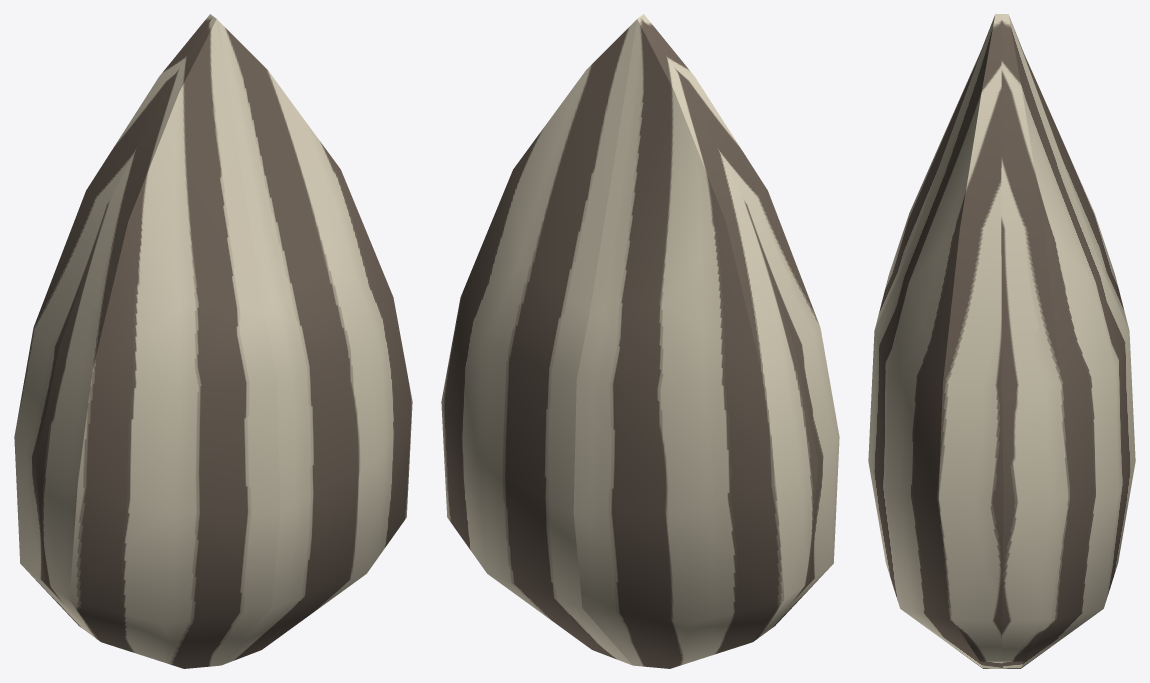
File: SunFlowerSeed.fbx
The picture shows the model from 3 angles, left to right: view 1: azimuth 30°, elevation 25°; view 2: azimuth 150°, elevation 25°; view 3: azimuth 270°, elevation 25°; orthographic projection.
Visible parts, largest first — view 1: himawarinotane; view 2: himawarinotane; view 3: himawarinotane.
Boxes of the visible parts, box(x1,y1,x2,y2) form: himawarinotane: box(14, 14, 412, 668); himawarinotane: box(441, 14, 839, 668); himawarinotane: box(868, 14, 1135, 668).
Bounding box in the file's own units: 1.96 × 3.4 × 1.28.
1 material, 1 textured.
